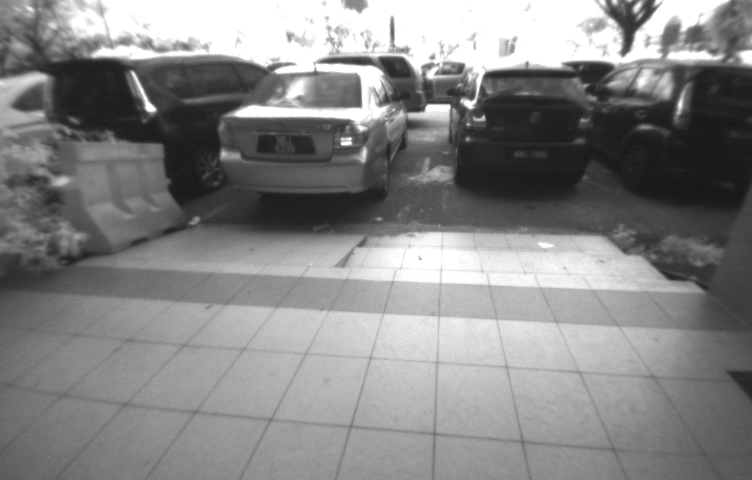down_steps: (342, 223, 689, 311)
mixed_gradient: (291, 217, 392, 300)
